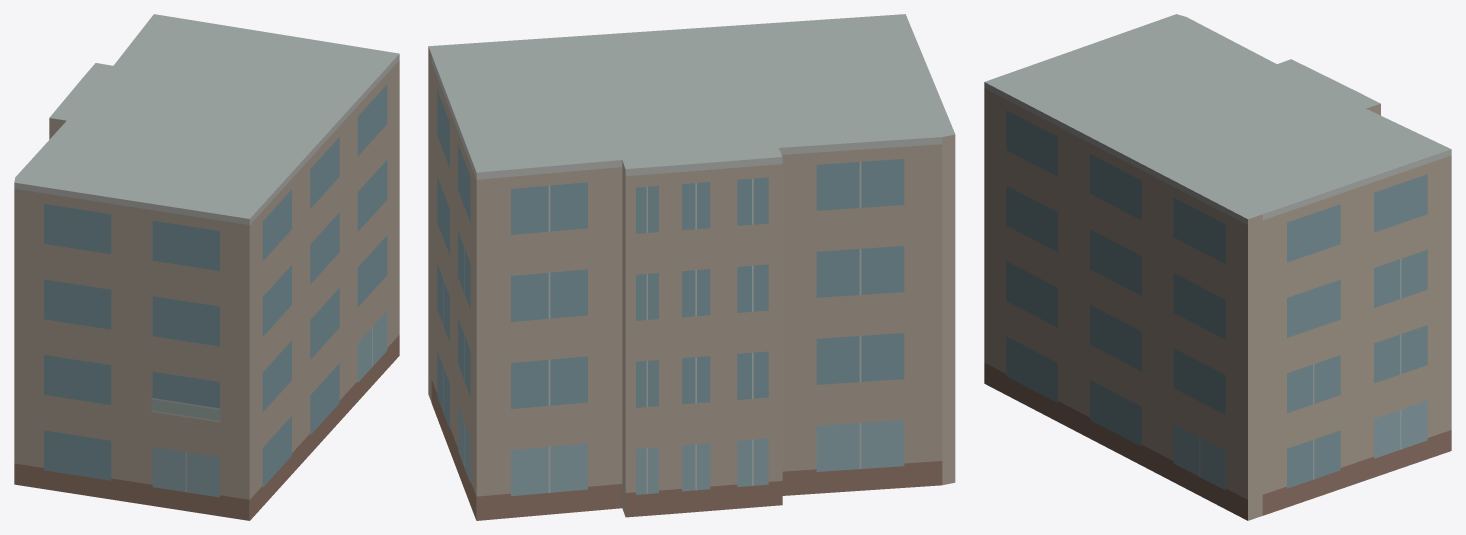
Rendered from survey-upis-32833262.glb.
The picture shows the model from 3 angles, left to right: view 1: azimuth 30°, elevation 25°; view 2: azimuth 150°, elevation 25°; view 3: azimuth 270°, elevation 25°; orthographic projection. The views are drawn at different scales.
Parts seen in each view (by area): view 1: survey-upis-32833262.tmp; view 2: survey-upis-32833262.tmp; view 3: survey-upis-32833262.tmp.
Part boxes in pixels (<box>): survey-upis-32833262.tmp: <box>14,14,399,520</box>; survey-upis-32833262.tmp: <box>428,14,955,520</box>; survey-upis-32833262.tmp: <box>984,14,1451,520</box>.
Size of the model in its own units: 17.53 by 12 by 16.87.
